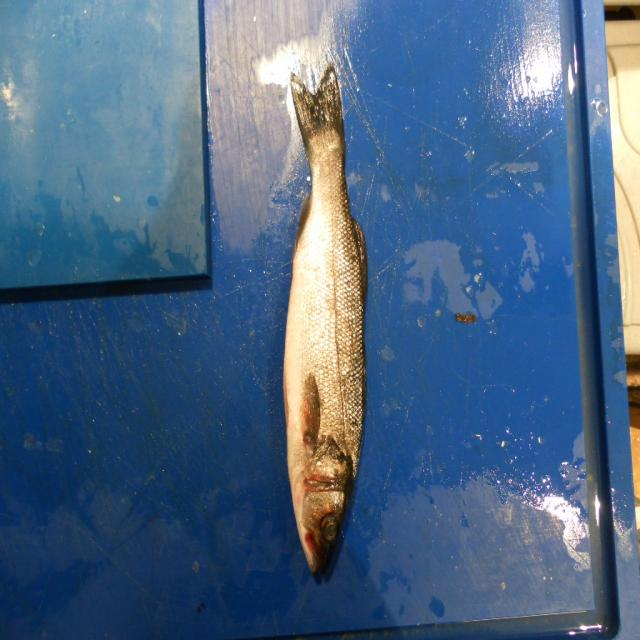Sea-Bass-levrek-: (282, 65, 368, 584)
